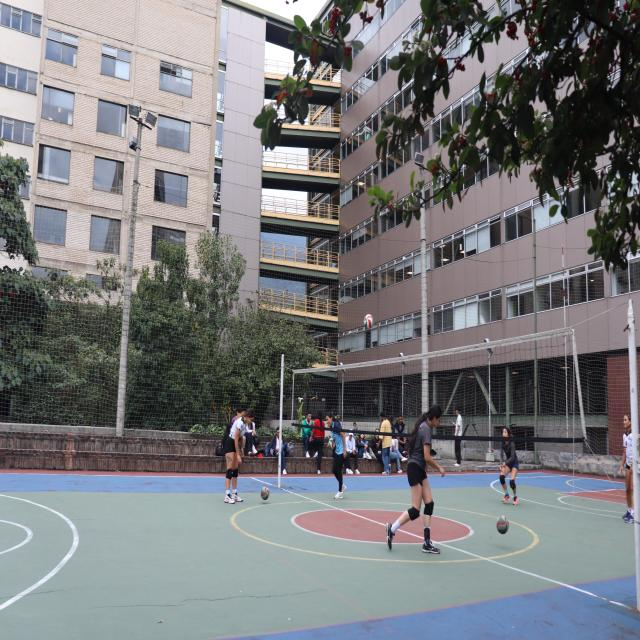volleyball: (496, 516, 508, 534), (363, 314, 374, 329), (260, 486, 270, 500), (329, 437, 336, 449)
